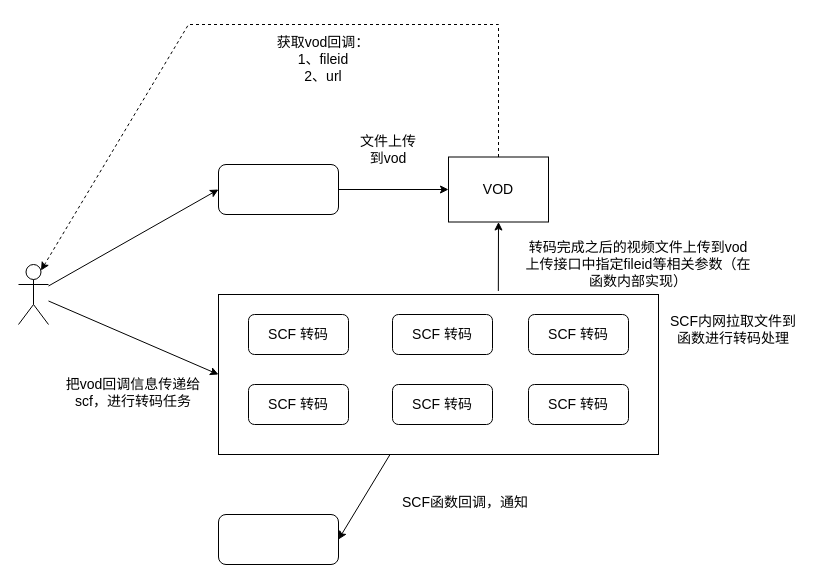
The diagram is 816 pixels wide and 582 high, and some of its shapes have lost their labels. Here are the shapes that lost their labels. From the top down, the box of each, then its label:
(218, 164, 338, 214): 调接口上传文件
(18, 264, 48, 324): Actor
(218, 514, 338, 564): 业务服务器
